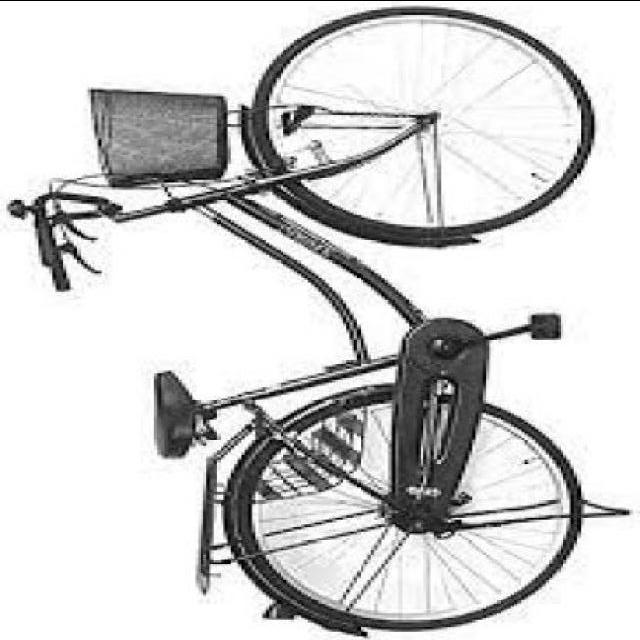bicycle: (32, 8, 621, 631)
